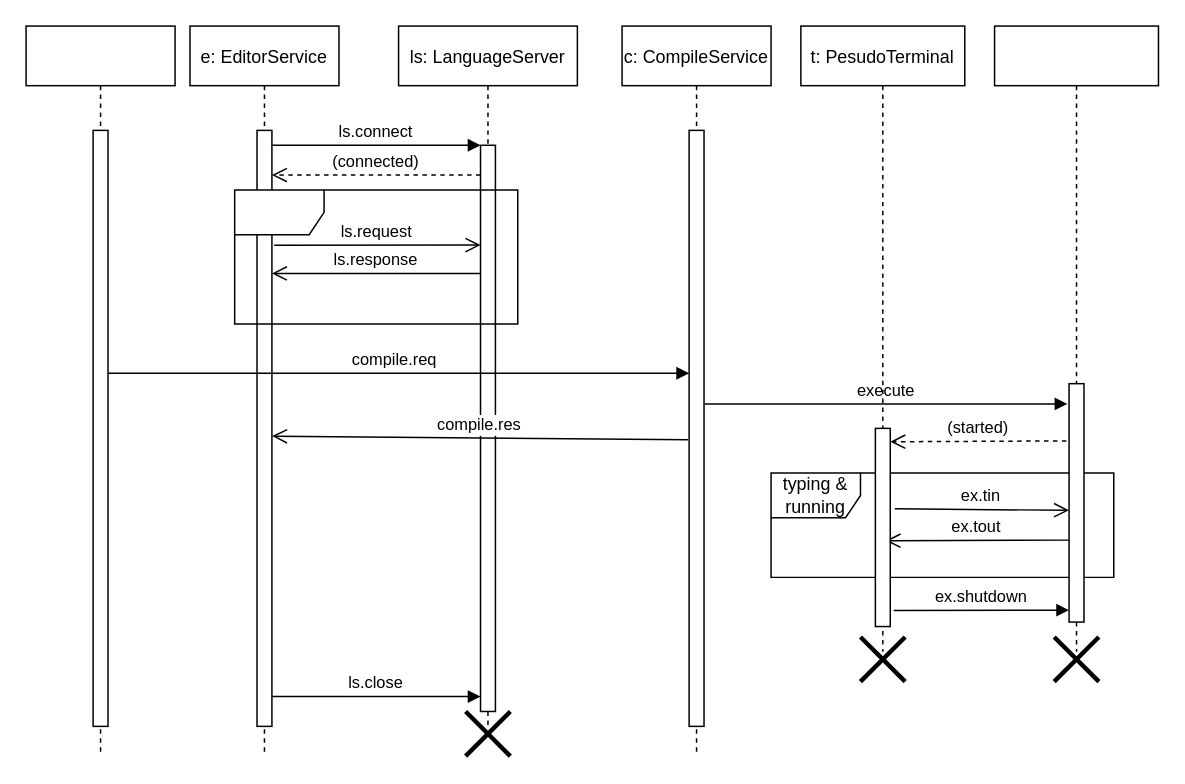
The diagram is 1185 pixels wide and 784 high, and some of its shapes have lost their labels. The box of each missing label's shape, as (x1, y1, x2, y2) in pixels:
a: ActionManager: (25, 25, 175, 756)
ex: Executor: (993, 25, 1158, 652)
typing: (233, 188, 518, 324)
